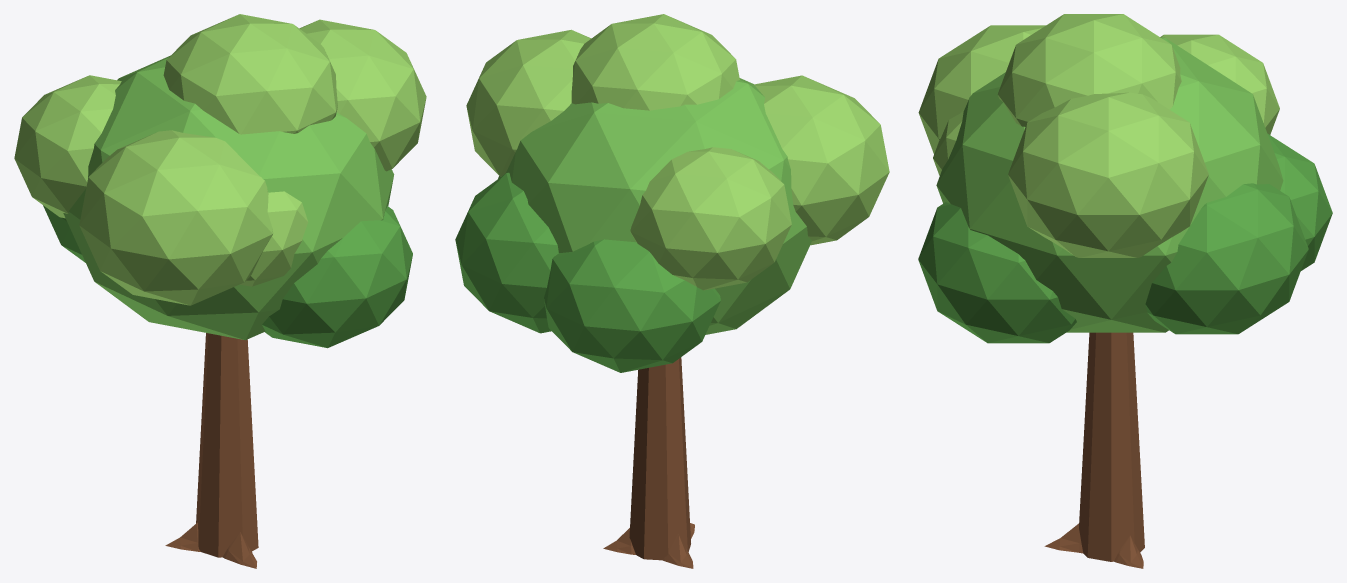
The model's file is tree-round-a.glb.
The picture shows the model from 3 angles, left to right: view 1: azimuth 30°, elevation 25°; view 2: azimuth 150°, elevation 25°; view 3: azimuth 270°, elevation 25°; orthographic projection. The views are drawn at different scales.
Parts seen in each view (by area): view 1: tree-round-a; view 2: tree-round-a; view 3: tree-round-a.
Boxes of the visible parts, x1,y1,x2,y2 form: tree-round-a: (14, 14, 426, 568); tree-round-a: (455, 14, 889, 568); tree-round-a: (918, 14, 1332, 568).
Bounding box in the file's own units: 4.35 × 6.07 × 4.27.
